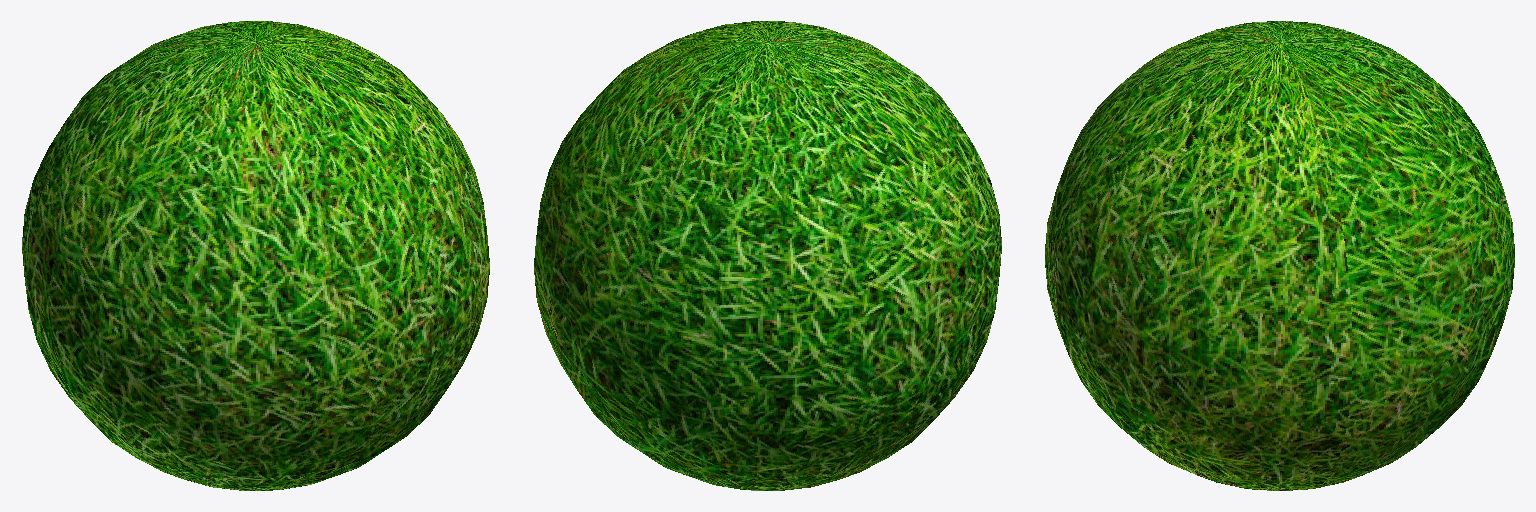
The picture shows the model from 3 angles: view 1: azimuth 30°, elevation 25°; view 2: azimuth 150°, elevation 25°; view 3: azimuth 270°, elevation 25°; orthographic projection.
Parts seen in each view (by area): view 1: pSphere1; view 2: pSphere1; view 3: pSphere1.
Part boxes in pixels (left/top/right/bottom): pSphere1: left=22, top=21, right=489, bottom=490; pSphere1: left=534, top=21, right=1001, bottom=490; pSphere1: left=1045, top=21, right=1514, bottom=490.
Bounding box in the file's own units: 2 × 2 × 2.
Materials: 1 (1 with a texture image).